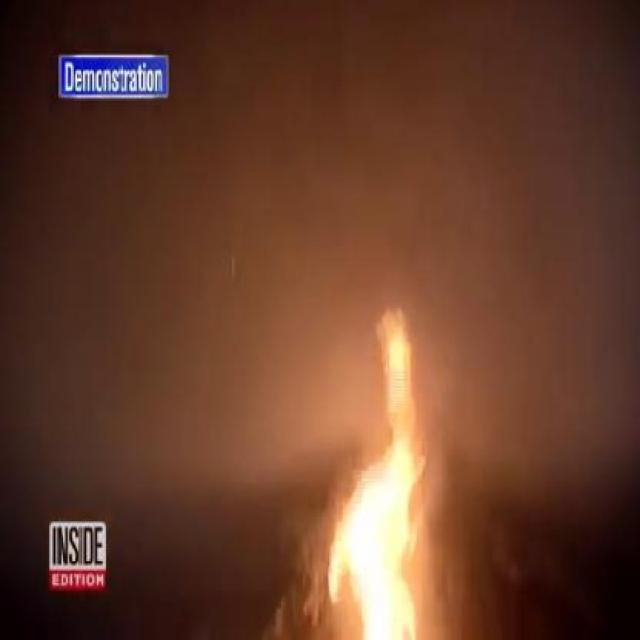fire: (300, 266, 497, 640)
